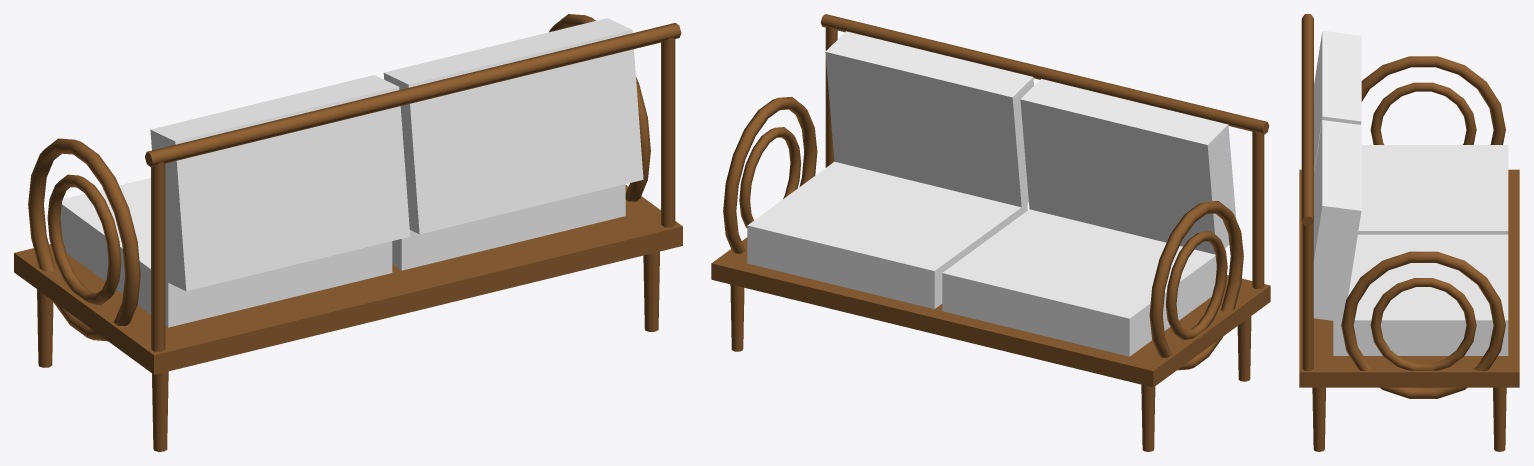
File: sofa-rattan.obj
The picture shows the model from 3 angles, left to right: view 1: azimuth 30°, elevation 25°; view 2: azimuth 150°, elevation 25°; view 3: azimuth 270°, elevation 25°; orthographic projection. The views are drawn at different scales.
Visible parts, largest first — view 1: sofa-rattan_13, sofa-rattan_15, sofa-rattan_4, sofa-rattan_12, sofa-rattan_11, sofa-rattan_14, sofa-rattan_5, sofa-rattan_6, sofa-rattan_10, sofa-rattan_7, sofa-rattan_8, sofa-rattan_2 (+2 smaller); view 2: sofa-rattan_15, sofa-rattan_13, sofa-rattan_12, sofa-rattan_14, sofa-rattan_4, sofa-rattan_11, sofa-rattan_5, sofa-rattan_8, sofa-rattan_6, sofa-rattan_7, sofa-rattan_9, sofa-rattan_0 (+3 smaller); view 3: sofa-rattan_14, sofa-rattan_12, sofa-rattan_4, sofa-rattan_15, sofa-rattan_8, sofa-rattan_13, sofa-rattan_9, sofa-rattan_11, sofa-rattan_5, sofa-rattan_6, sofa-rattan_10, sofa-rattan_1 (+1 smaller).
Part boxes in pixels (<box>): sofa-rattan_13: <box>150,75,410,291</box>; sofa-rattan_15: <box>383,18,643,234</box>; sofa-rattan_4: <box>14,185,682,374</box>; sofa-rattan_12: <box>60,177,392,327</box>; sofa-rattan_11: <box>145,23,681,166</box>; sofa-rattan_14: <box>392,184,625,270</box>; sofa-rattan_5: <box>28,138,140,341</box>; sofa-rattan_6: <box>47,174,121,305</box>; sofa-rattan_10: <box>661,37,675,227</box>; sofa-rattan_7: <box>151,162,165,351</box>; sofa-rattan_8: <box>549,14,650,201</box>; sofa-rattan_2: <box>152,371,168,451</box>; sofa-rattan_15: <box>825,31,1033,208</box>; sofa-rattan_13: <box>1020,79,1236,254</box>; sofa-rattan_12: <box>942,209,1216,356</box>; sofa-rattan_14: <box>747,161,1027,308</box>; sofa-rattan_4: <box>711,237,1270,387</box>; sofa-rattan_11: <box>820,14,1269,134</box>; sofa-rattan_5: <box>1149,201,1243,370</box>; sofa-rattan_8: <box>723,97,817,253</box>; sofa-rattan_6: <box>1165,231,1227,340</box>; sofa-rattan_7: <box>1252,130,1264,288</box>; sofa-rattan_9: <box>739,127,800,228</box>; sofa-rattan_0: <box>1141,384,1155,451</box>; sofa-rattan_14: <box>1333,234,1508,355</box>; sofa-rattan_12: <box>1358,145,1508,234</box>; sofa-rattan_4: <box>1299,169,1519,387</box>; sofa-rattan_15: <box>1313,120,1361,321</box>; sofa-rattan_8: <box>1341,251,1505,398</box>; sofa-rattan_13: <box>1314,30,1361,172</box>; sofa-rattan_9: <box>1370,278,1476,370</box>; sofa-rattan_11: <box>1301,14,1313,226</box>; sofa-rattan_5: <box>1361,56,1505,144</box>; sofa-rattan_6: <box>1370,82,1476,144</box>; sofa-rattan_10: <box>1302,223,1313,370</box>; sofa-rattan_1: <box>1493,387,1506,451</box>.
Size of the model in its own units: 1.7 by 0.9391 by 0.78.
